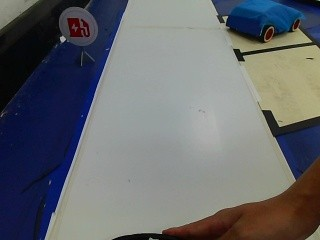battery: (54, 4, 96, 48)
car: (226, 0, 302, 44)
